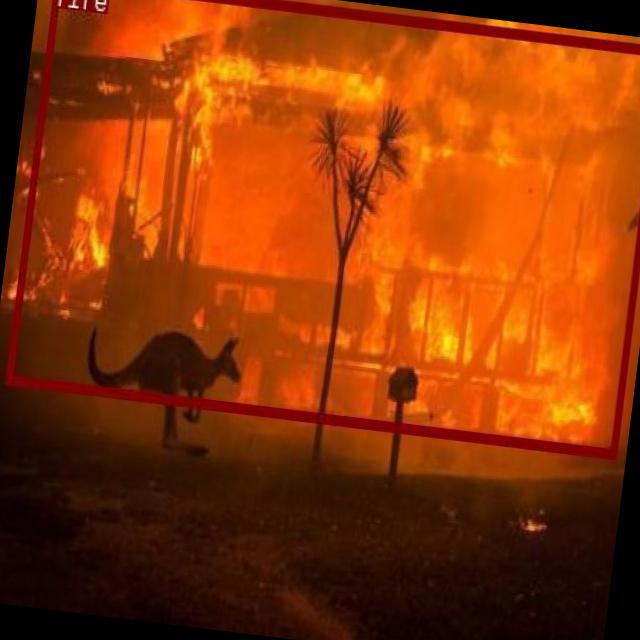fire: (4, 0, 640, 456)
